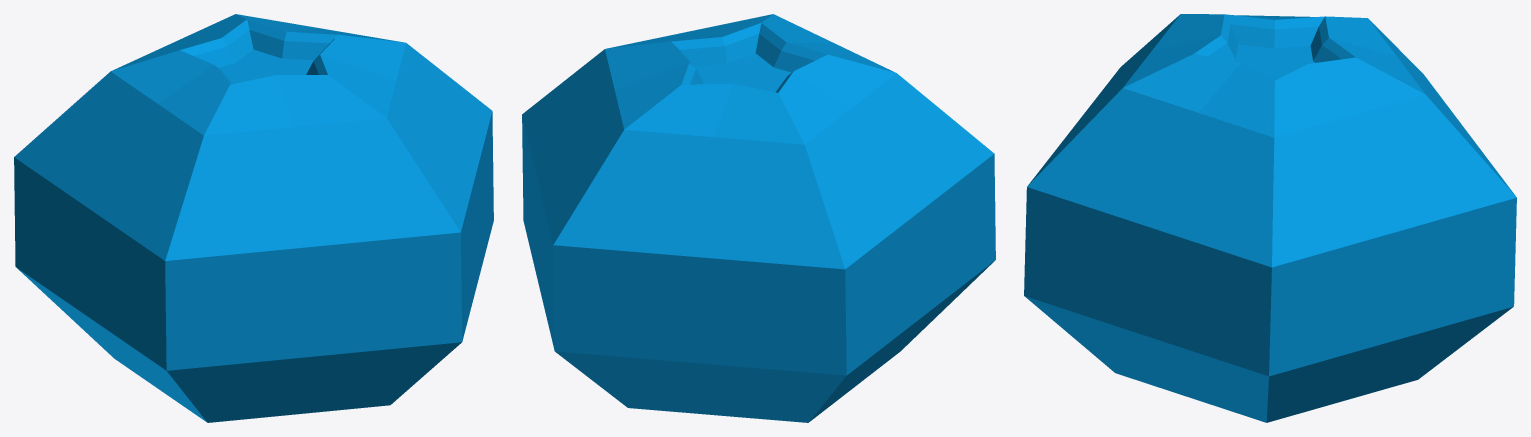
The model's file is blueberry.fbx.
3 views of the same model, side by side, from view 1: azimuth 30°, elevation 25°; view 2: azimuth 150°, elevation 25°; view 3: azimuth 270°, elevation 25° (orthographic).
Parts seen in each view (by area): view 1: BlueBerries_01.001; view 2: BlueBerries_01.001; view 3: BlueBerries_01.001.
Part boxes in pixels (<box>): BlueBerries_01.001: <box>14,14,493,422</box>; BlueBerries_01.001: <box>522,14,995,422</box>; BlueBerries_01.001: <box>1024,14,1516,422</box>.
Bounding box in the file's own units: 189 × 154 × 199.
